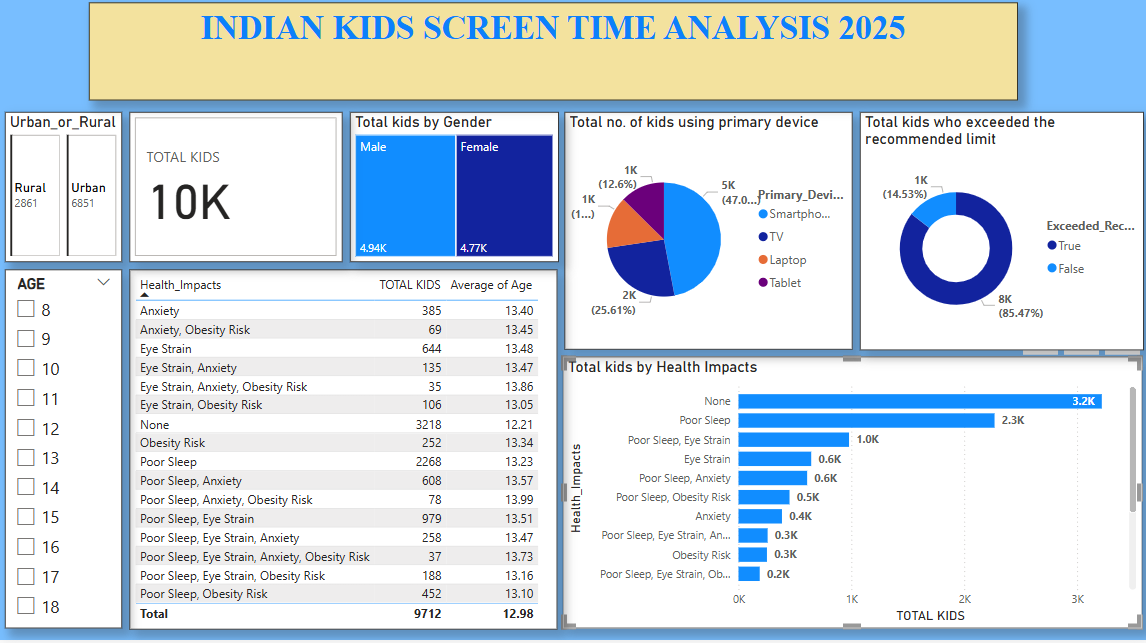

The dashboard page shown, as its layout file describes it:
{"tool":"powerbi","page":{"name":"Page 1","canvas":[1280,720],"ordinal":0},"visuals":[{"type":"clusteredBarChart","title":"Total kids by Health Impacts","fields":{"Category":["Indian_Kids_Screen_Time.Health_Impacts"],"Y":["Indian_Kids_Screen_Time.TOTAL KIDS"]},"box":[627,405,643,302],"z":0},{"type":"pieChart","title":"Total no. of kids using primary device","fields":{"Category":["Indian_Kids_Screen_Time.Primary_Device"],"Y":["Indian_Kids_Screen_Time.TOTAL KIDS"]},"box":[628,134,320,264],"z":1000},{"type":"donutChart","title":"Total kids who exceeded the recommended limit ","fields":{"Category":["Indian_Kids_Screen_Time.Exceeded_Recommended_Limit"],"Y":["Indian_Kids_Screen_Time.TOTAL KIDS"]},"box":[956.4,133.6,315.5,264.5],"z":2000},{"type":"tableEx","fields":{"Values":["Indian_Kids_Screen_Time.Health_Impacts","Indian_Kids_Screen_Time.TOTAL KIDS","Avg(Indian_Kids_Screen_Time.Age)"]},"box":[145,308.3,475,400],"z":3000},{"type":"treemap","title":"Total kids by Gender","fields":{"Group":["Indian_Kids_Screen_Time.Gender"],"Values":["Indian_Kids_Screen_Time.TOTAL KIDS"]},"box":[390,133.3,231.7,166.7],"z":4000},{"type":"advancedSlicerVisual","fields":{"Values":["Indian_Kids_Screen_Time.Urban_or_Rural"]},"box":[6.7,133.3,130,166.7],"z":5000},{"type":"slicer","title":"AGE","fields":{"Values":["Indian_Kids_Screen_Time.Age"]},"box":[6.7,308.3,130,398.3],"z":6000},{"type":"cardVisual","fields":{"Data":["Indian_Kids_Screen_Time.TOTAL KIDS"]},"box":[145,133.3,236.7,166.7],"z":7000},{"type":"textbox","box":[100,11.7,1031.7,108.3],"z":8000}]}

Visuals, with their boxes in screenshot pixels (x1, y1, x2, y2), scaled from the page's 1280x720 canvas onto the 1146x643 screenshot:
"Total kids by Health Impacts" clusteredBarChart: bbox(561, 362, 1137, 631)
"Total no. of kids using primary device" pieChart: bbox(562, 120, 849, 355)
"Total kids who exceeded the recommended limit " donutChart: bbox(856, 119, 1139, 356)
tableEx - Indian_Kids_Screen_Time.Health_Impacts x Indian_Kids_Screen_Time.TOTAL KIDS: bbox(130, 275, 555, 633)
"Total kids by Gender" treemap: bbox(349, 119, 557, 268)
advancedSlicerVisual - Indian_Kids_Screen_Time.Urban_or_Rural: bbox(6, 119, 122, 268)
"AGE" slicer: bbox(6, 275, 122, 631)
cardVisual - Indian_Kids_Screen_Time.TOTAL KIDS: bbox(130, 119, 342, 268)
textbox: bbox(90, 10, 1013, 107)
